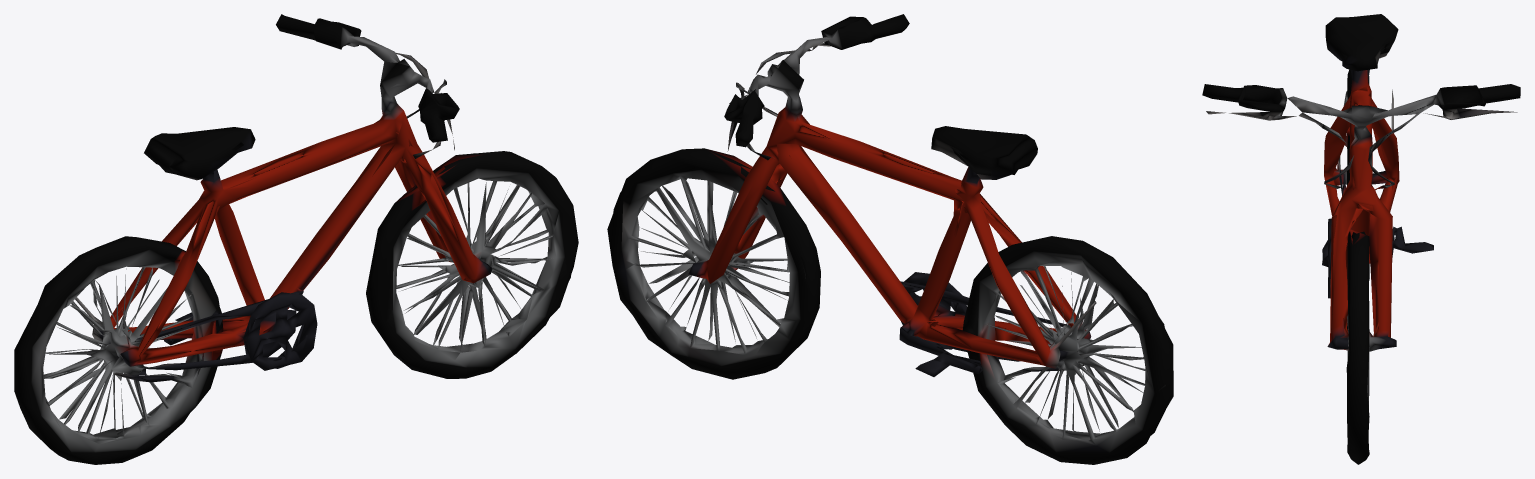
The model's file is gen3d-bicycle-lod0.glb.
3 renders of one model, left to right at view 1: azimuth 30°, elevation 25°; view 2: azimuth 150°, elevation 25°; view 3: azimuth 270°, elevation 25°, orthographic. The views are drawn at different scales.
Parts seen in each view (by area): view 1: part_0; view 2: part_0; view 3: part_0.
Boxes of the visible parts, x1,y1,x2,y2 form: part_0: [14, 14, 578, 464]; part_0: [607, 14, 1173, 464]; part_0: [1202, 14, 1520, 464].
Bounding box in the file's own units: 1.74 × 0.9965 × 0.8827.
